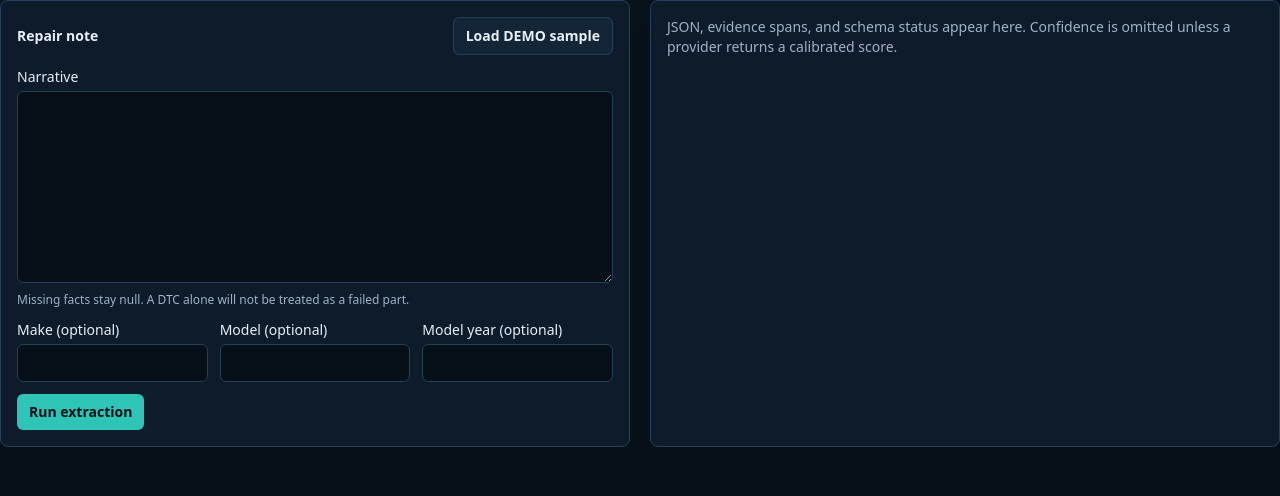
Test: extraction form keeps text and explains a short note
Step 1. Type "short" into the text box named "Repair note" → (315, 187), box 17,91 -> 613,283
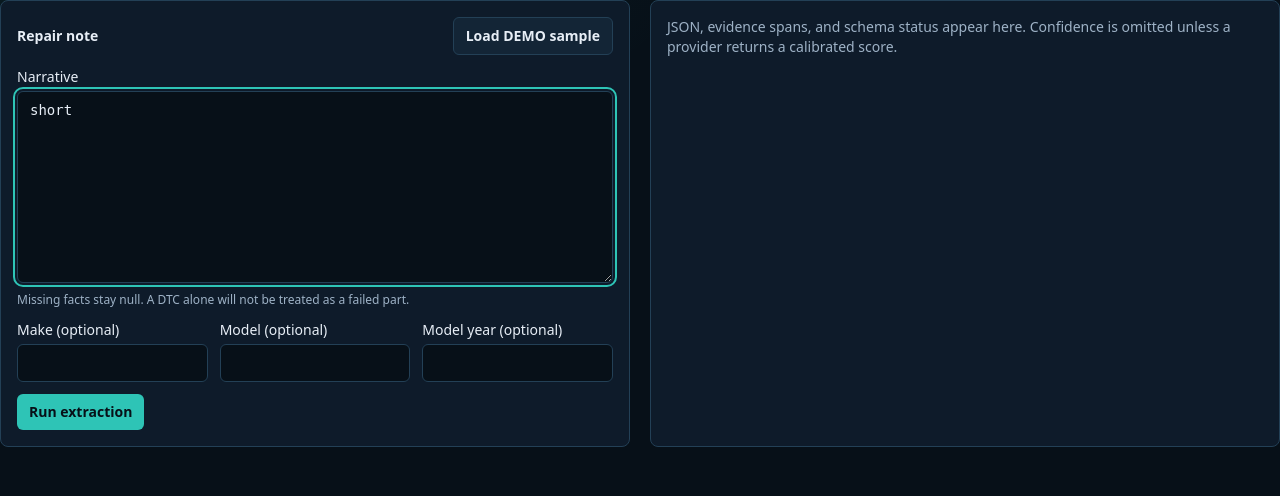
Step 2. Click the button "Run extraction" → (81, 412), box 17,394 -> 144,430
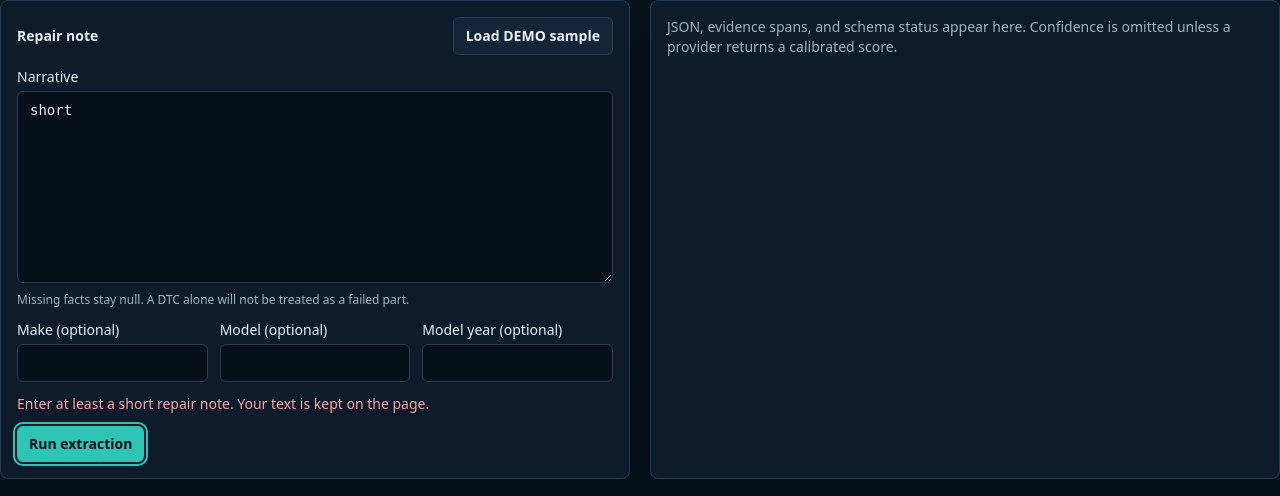
Result: the message shows "at least a short repair note" at 17,394 -> 429,413
